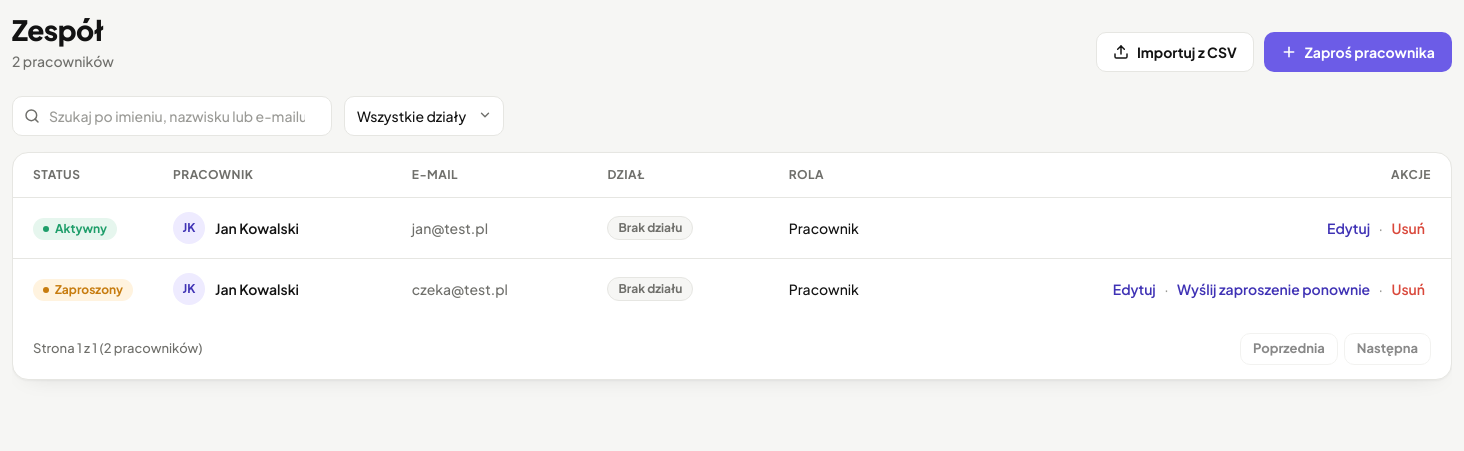
Scenario: UsersPageClient › przycisk ponownego zaproszenia jest tylko dla kont INVITED i woła resend-invite
The width and height of the screenshot is (1464, 451).
Check: the text "czeka@test.pl" is shown, box [392,258,588,319]
Click the button "Wyślij zaproszenie ponownie" at (1274, 289), box [1171,275,1376,303]
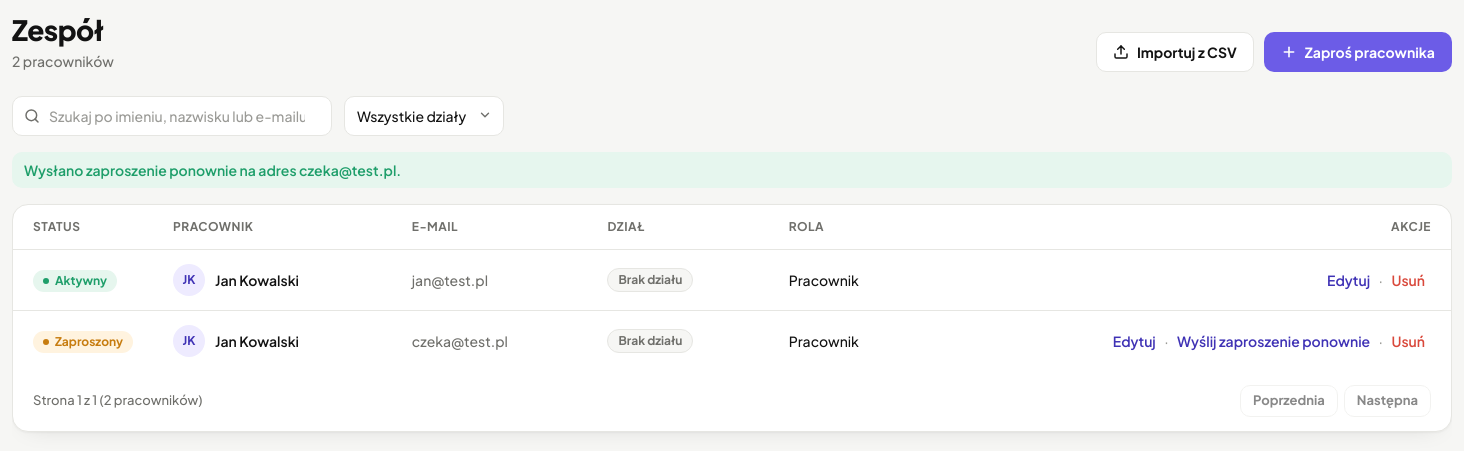
Check: the text "Wysłano zaproszenie ponownie na adres czeka@test.pl." is shown, box [12,152,1452,188]
